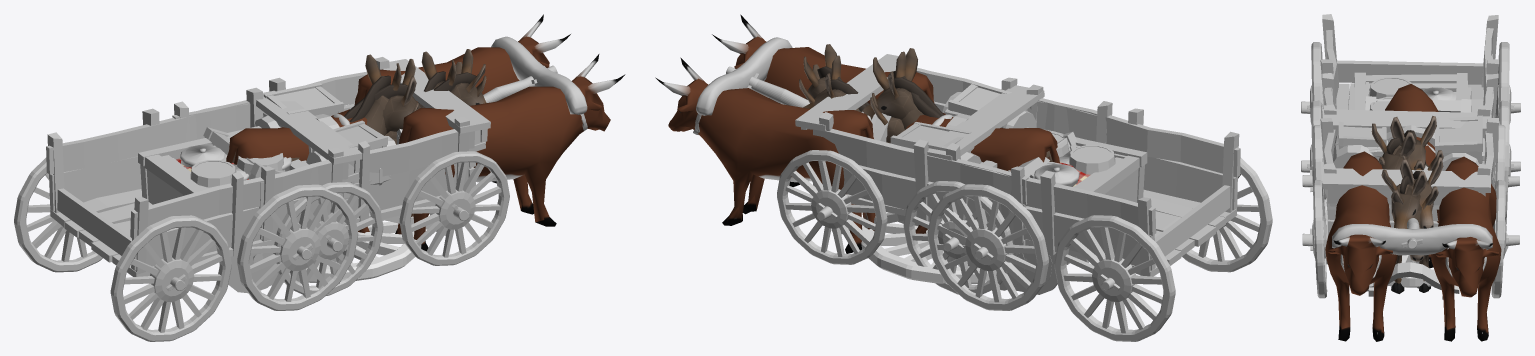
File: TradingPost2.fbx
The picture shows the model from 3 angles, left to right: view 1: azimuth 30°, elevation 25°; view 2: azimuth 150°, elevation 25°; view 3: azimuth 270°, elevation 25°; orthographic projection. The views are drawn at different scales.
Visible parts, largest first — view 1: Ox.002, Wheel.006, Wheel.007, Wheel.008, Donkey.050, Wheel.004, Wagon.010, Wagon.012, Wheel.005, Ox.001, Wagon.051, Wagon.009 (+26 smaller); view 2: Ox.001, Wheel.005, Wheel.003, Wheel.002, Wagon.012, Donkey.050, Wagon.010, Wagon.036, Wheel.001, Wheel.006, Ox.002, Ox.003 (+29 smaller); view 3: Ox.002, Ox.001, Yoke.002, Wagon.038, Wagon.013, Donkey.050, Wagon.026, Donkey.103, Donkey.005, Wheel.008, Ox.003, Wheel.002 (+40 smaller).
Boxes of the visible parts, <box> form: Ox.002: <box>395,54,625,251</box>; Wheel.006: <box>110,215,231,341</box>; Wheel.007: <box>237,184,358,310</box>; Wheel.008: <box>399,151,509,265</box>; Donkey.050: <box>138,126,306,293</box>; Wheel.004: <box>273,182,383,296</box>; Wagon.010: <box>46,103,250,174</box>; Wagon.012: <box>130,160,348,239</box>; Wheel.005: <box>14,157,102,272</box>; Ox.001: <box>354,14,570,183</box>; Wagon.051: <box>259,129,474,208</box>; Wagon.009: <box>49,156,141,211</box>; Ox.001: <box>655,57,875,253</box>; Wheel.005: <box>1054,215,1175,341</box>; Wheel.003: <box>927,184,1048,310</box>; Wheel.002: <box>777,150,887,264</box>; Wagon.012: <box>1038,98,1240,177</box>; Donkey.050: <box>981,127,1147,294</box>; Wagon.010: <box>960,164,1156,235</box>; Wagon.036: <box>813,128,1028,204</box>; Wheel.001: <box>903,181,1013,294</box>; Wheel.006: <box>1182,157,1272,272</box>; Ox.002: <box>712,14,934,186</box>; Ox.003: <box>906,113,1059,233</box>; Ox.002: <box>1325,151,1397,341</box>; Ox.001: <box>1431,156,1501,341</box>; Yoke.002: <box>1332,224,1492,255</box>; Wagon.038: <box>1322,168,1490,192</box>; Wagon.013: <box>1322,109,1490,133</box>; Donkey.050: <box>1354,72,1467,110</box>; Wagon.026: <box>1337,60,1483,84</box>; Donkey.103: <box>1434,115,1482,163</box>; Donkey.005: <box>1381,169,1430,293</box>; Wheel.008: <box>1312,180,1327,298</box>; Ox.003: <box>1385,84,1438,268</box>; Wheel.002: <box>1491,180,1506,298</box>.
Size of the model in its own units: 288 by 251 by 757.
